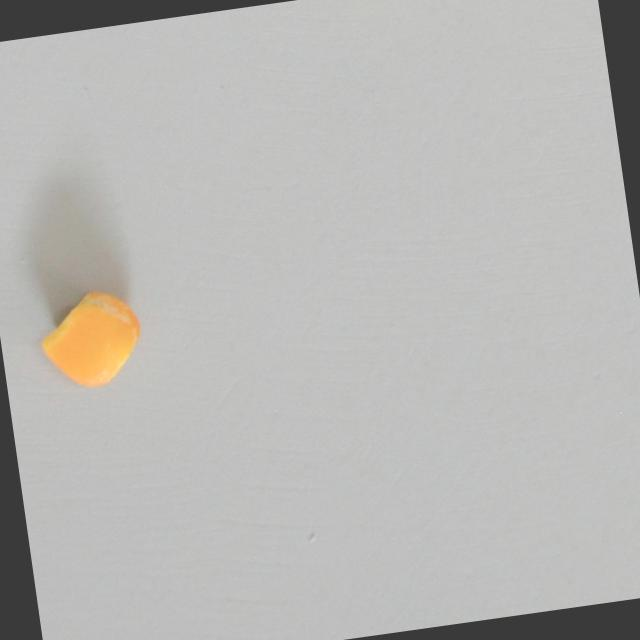no_canjicado: (27, 275, 163, 405)
